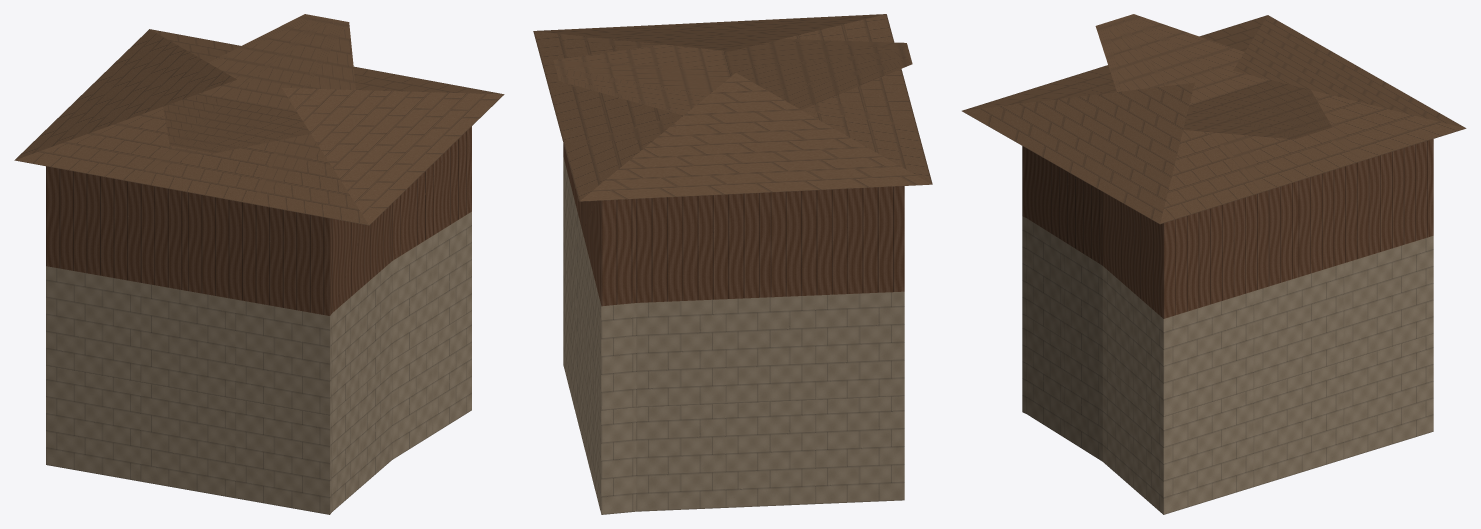
Rendered from bld_c-4_10_557.gltf.
3 renders of one model, left to right at view 1: azimuth 30°, elevation 25°; view 2: azimuth 150°, elevation 25°; view 3: azimuth 270°, elevation 25°, orthographic. The views are drawn at different scales.
Visible parts, largest first — view 1: bld_c-4_10_557; view 2: bld_c-4_10_557; view 3: bld_c-4_10_557.
Part boxes in pixels (left/top/right/bottom): bld_c-4_10_557: left=14, top=14, right=504, bottom=514; bld_c-4_10_557: left=533, top=14, right=932, bottom=514; bld_c-4_10_557: left=962, top=14, right=1466, bottom=514.
Size of the model in its own units: 10.45 by 8.1 by 10.66.
3 materials, 3 textured.
